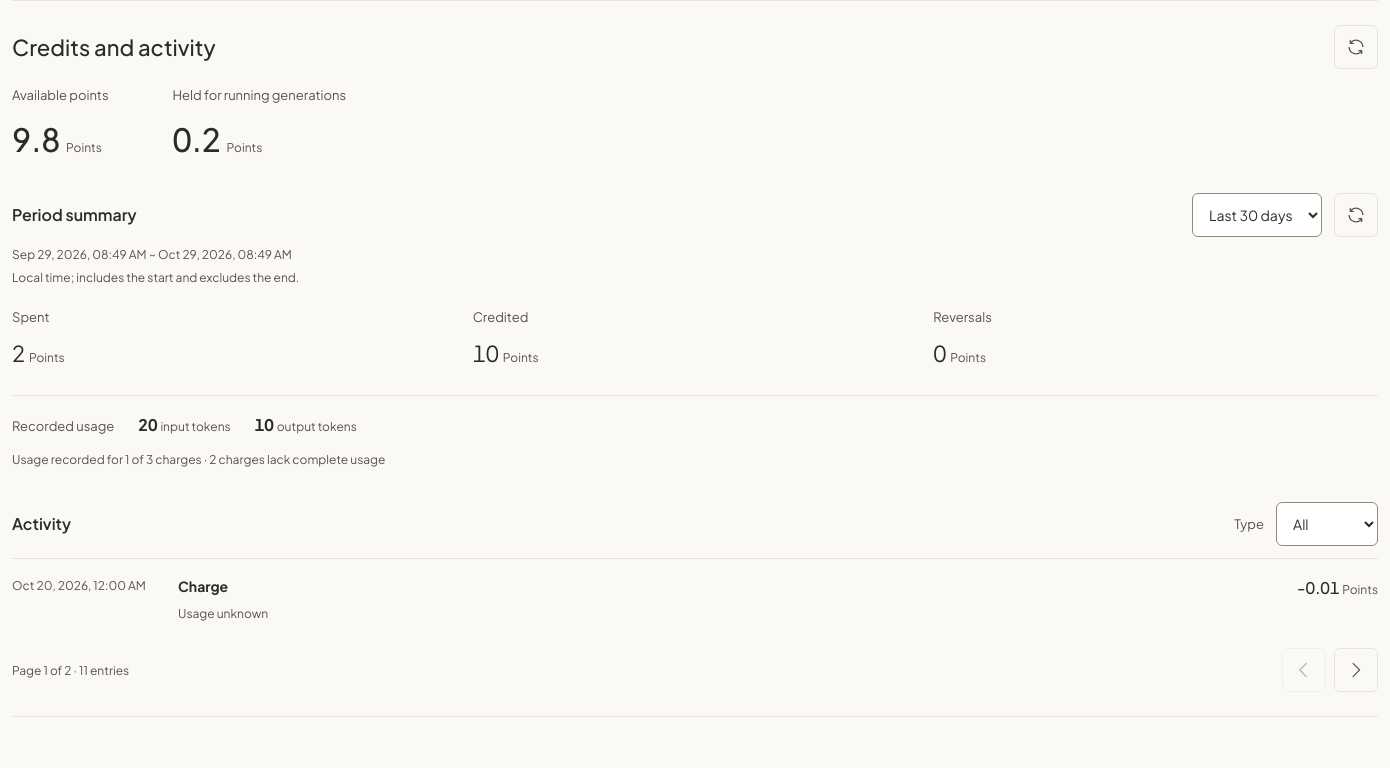
account activity › shows real balances and partial usage without treating unknown as zero
Expected: the element with test id "account-available" shows "9.8", [12,119,66,159]
Expected: the element with test id "account-held" shows "0.2", [172,119,227,159]
Click the button named "Refresh period".
click(1356, 215)  # box [1334,193,1378,237]
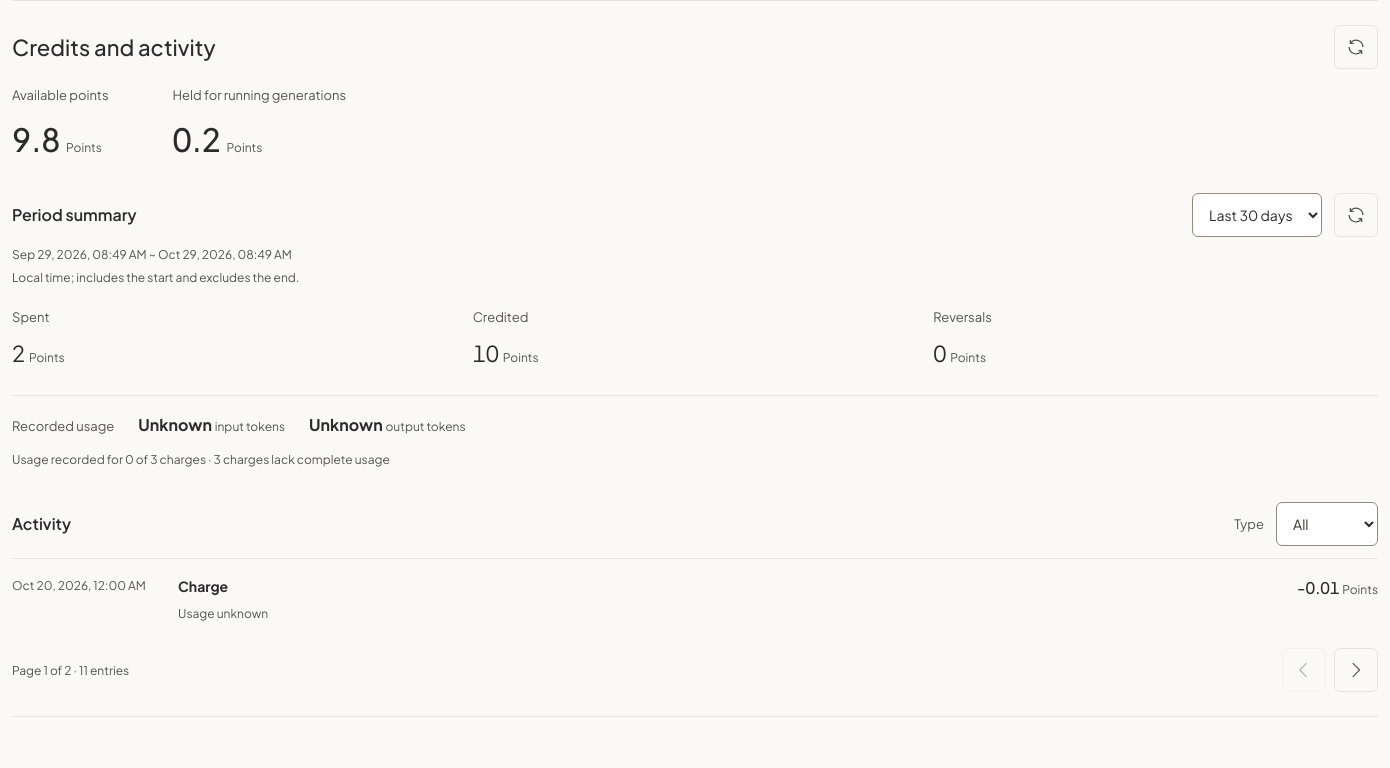
Now the element with test id "recorded-usage" shows "Unknown", box [138,414,215,435]
